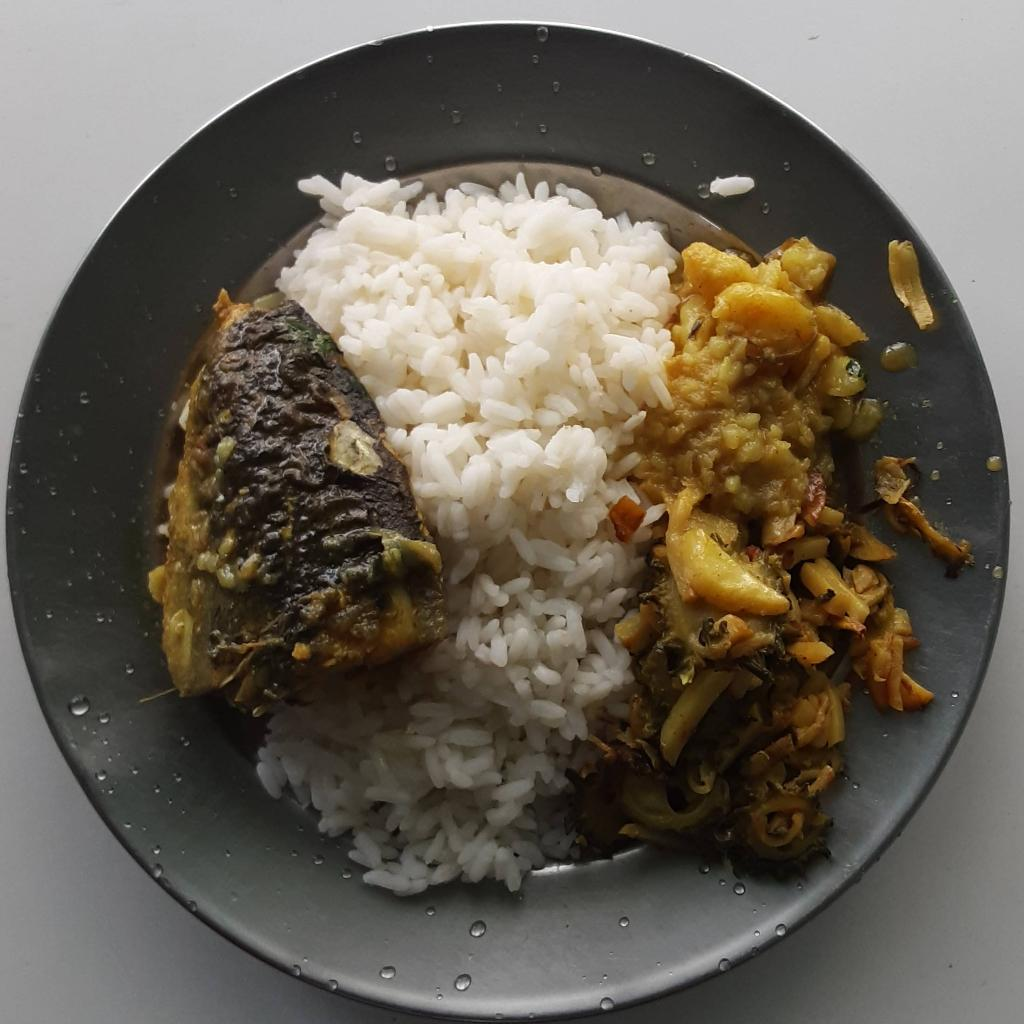fish: (143, 298, 449, 704)
rice: (261, 175, 670, 903)
vaji: (577, 229, 940, 866)
